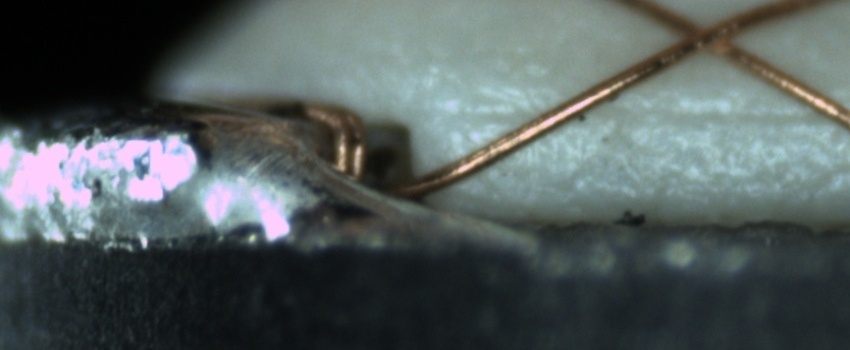CL: (659, 3, 754, 66)
DL: (438, 82, 849, 146)
TE: (283, 93, 372, 184)
